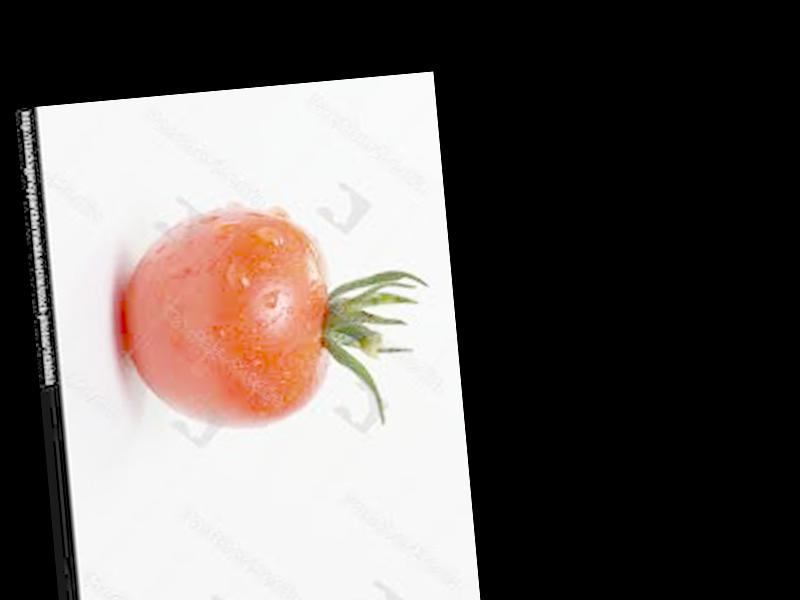Tomato: (114, 201, 336, 438)
